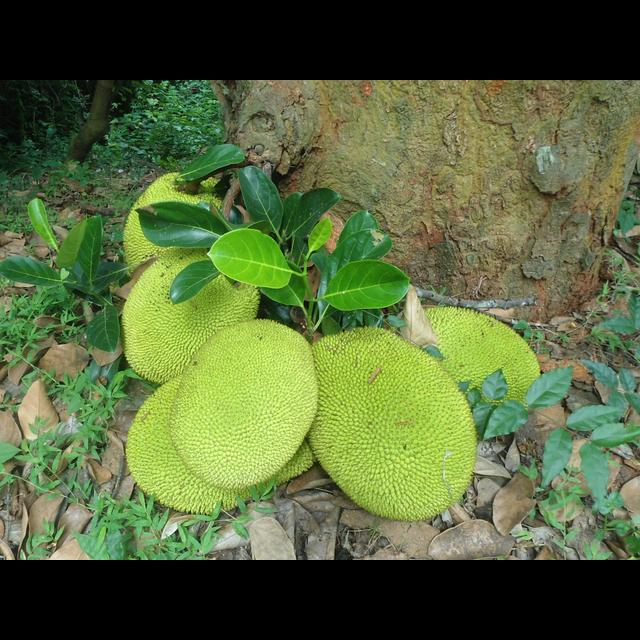mit: (315, 328, 477, 521), (166, 319, 317, 494), (119, 258, 261, 382), (123, 379, 236, 510), (401, 306, 542, 410), (123, 171, 221, 269)
